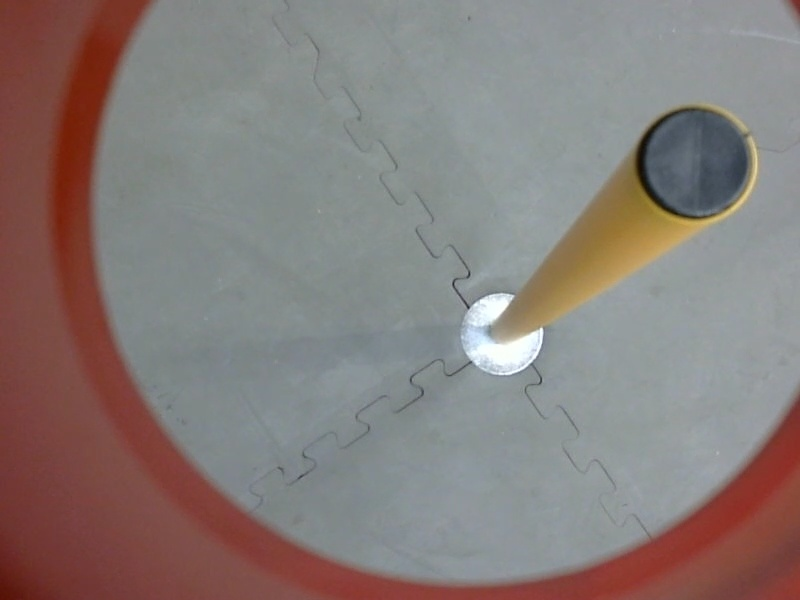tip: (631, 99, 765, 235)
